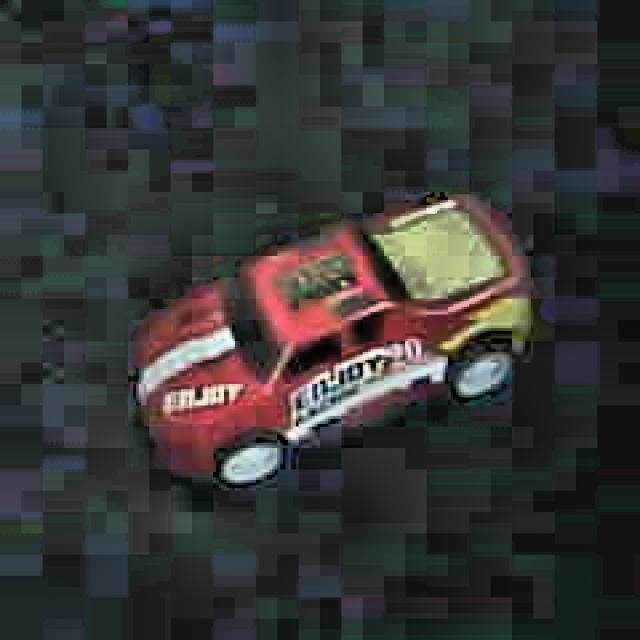car: (128, 186, 536, 494)
